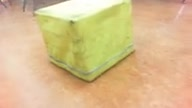cube: (34, 1, 135, 82)
